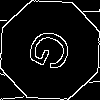G: (25, 25, 83, 80)
